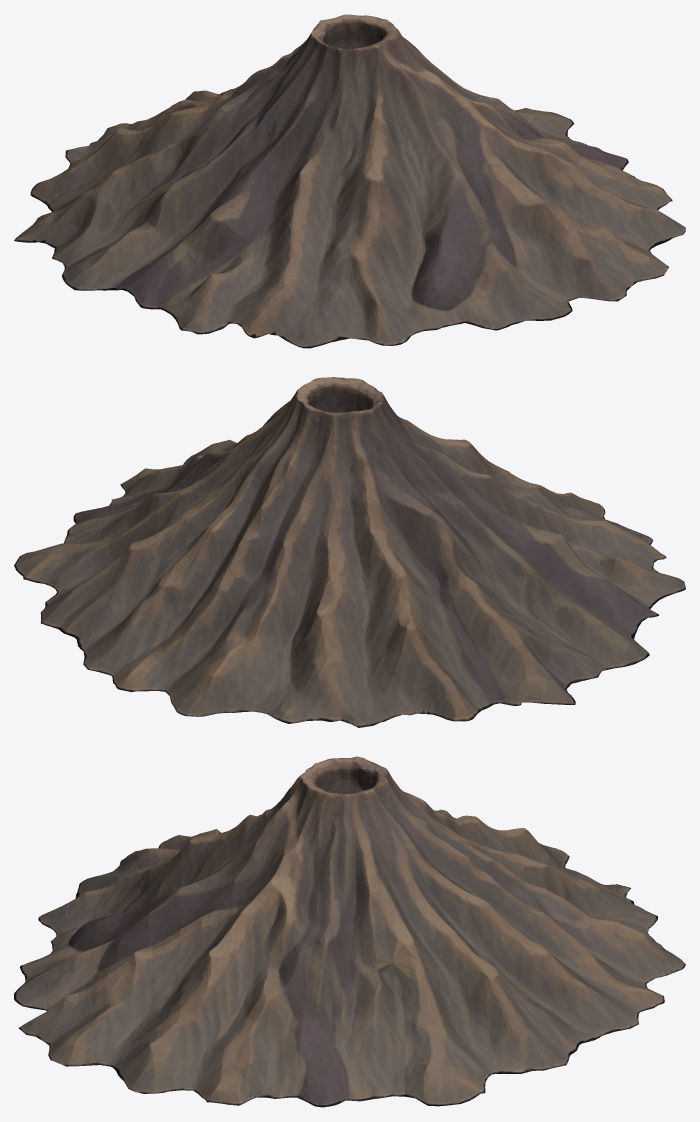
3 renders of one model, top to bottom at view 1: azimuth 30°, elevation 25°; view 2: azimuth 150°, elevation 25°; view 3: azimuth 270°, elevation 25°, orthographic. The views are drawn at different scales.
Parts seen in each view (by area): view 1: world; view 2: world; view 3: world.
Boxes of the visible parts, left/top/right/bottom form: world: left=14, top=14, right=685, bottom=348; world: left=14, top=377, right=685, bottom=727; world: left=14, top=756, right=685, bottom=1107.
Size of the model in its own units: 0.9971 by 0.3209 by 0.9921.
1 material, 1 textured.
